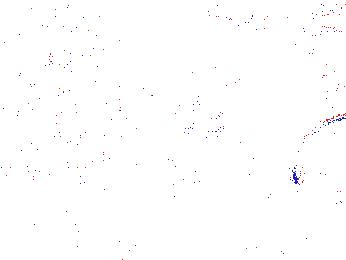moon jellyfish: (208, 19, 279, 98), (70, 10, 176, 60), (133, 70, 227, 126), (291, 115, 346, 208), (293, 26, 346, 93)
